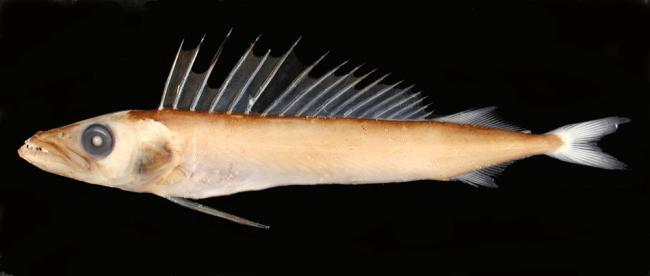fish: (18, 28, 631, 230)
